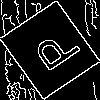P: (24, 25, 83, 80)
